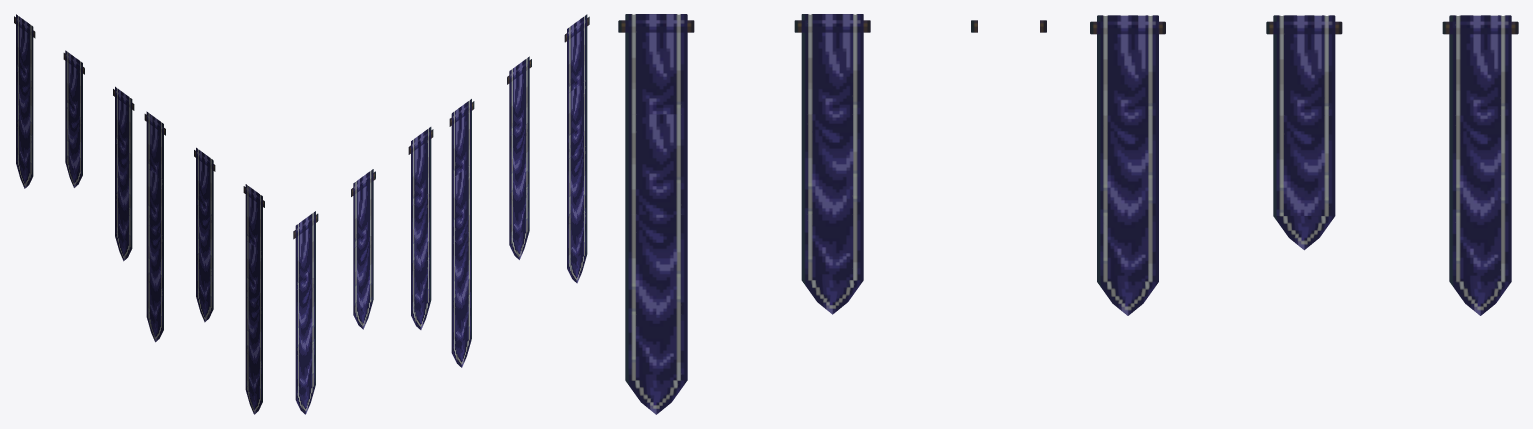
Rendered from ObjMD_Daiseido_Flag_A.FBX.
3 renders of one model, left to right at view 1: azimuth 30°, elevation 25°; view 2: azimuth 150°, elevation 25°; view 3: azimuth 270°, elevation 25°, orthographic. The views are drawn at different scales.
Visible parts, largest first — view 1: ObjMD_Daiseido_Flag_D, ObjMD_Daiseido_Flag_A; view 2: ObjMD_Daiseido_Flag_D, ObjMD_Daiseido_Flag_A; view 3: ObjMD_Daiseido_Flag_A, ObjMD_Daiseido_Flag_D.
Boxes of the visible parts, x1,y1,x2,y2 form: ObjMD_Daiseido_Flag_D: [144, 111, 264, 414]; ObjMD_Daiseido_Flag_A: [14, 14, 134, 261]; ObjMD_Daiseido_Flag_D: [449, 14, 589, 367]; ObjMD_Daiseido_Flag_A: [293, 127, 433, 414]; ObjMD_Daiseido_Flag_A: [1090, 15, 1518, 315]; ObjMD_Daiseido_Flag_D: [618, 14, 1046, 414].
Size of the model in its own units: 6.25 by 800 by 1628.
